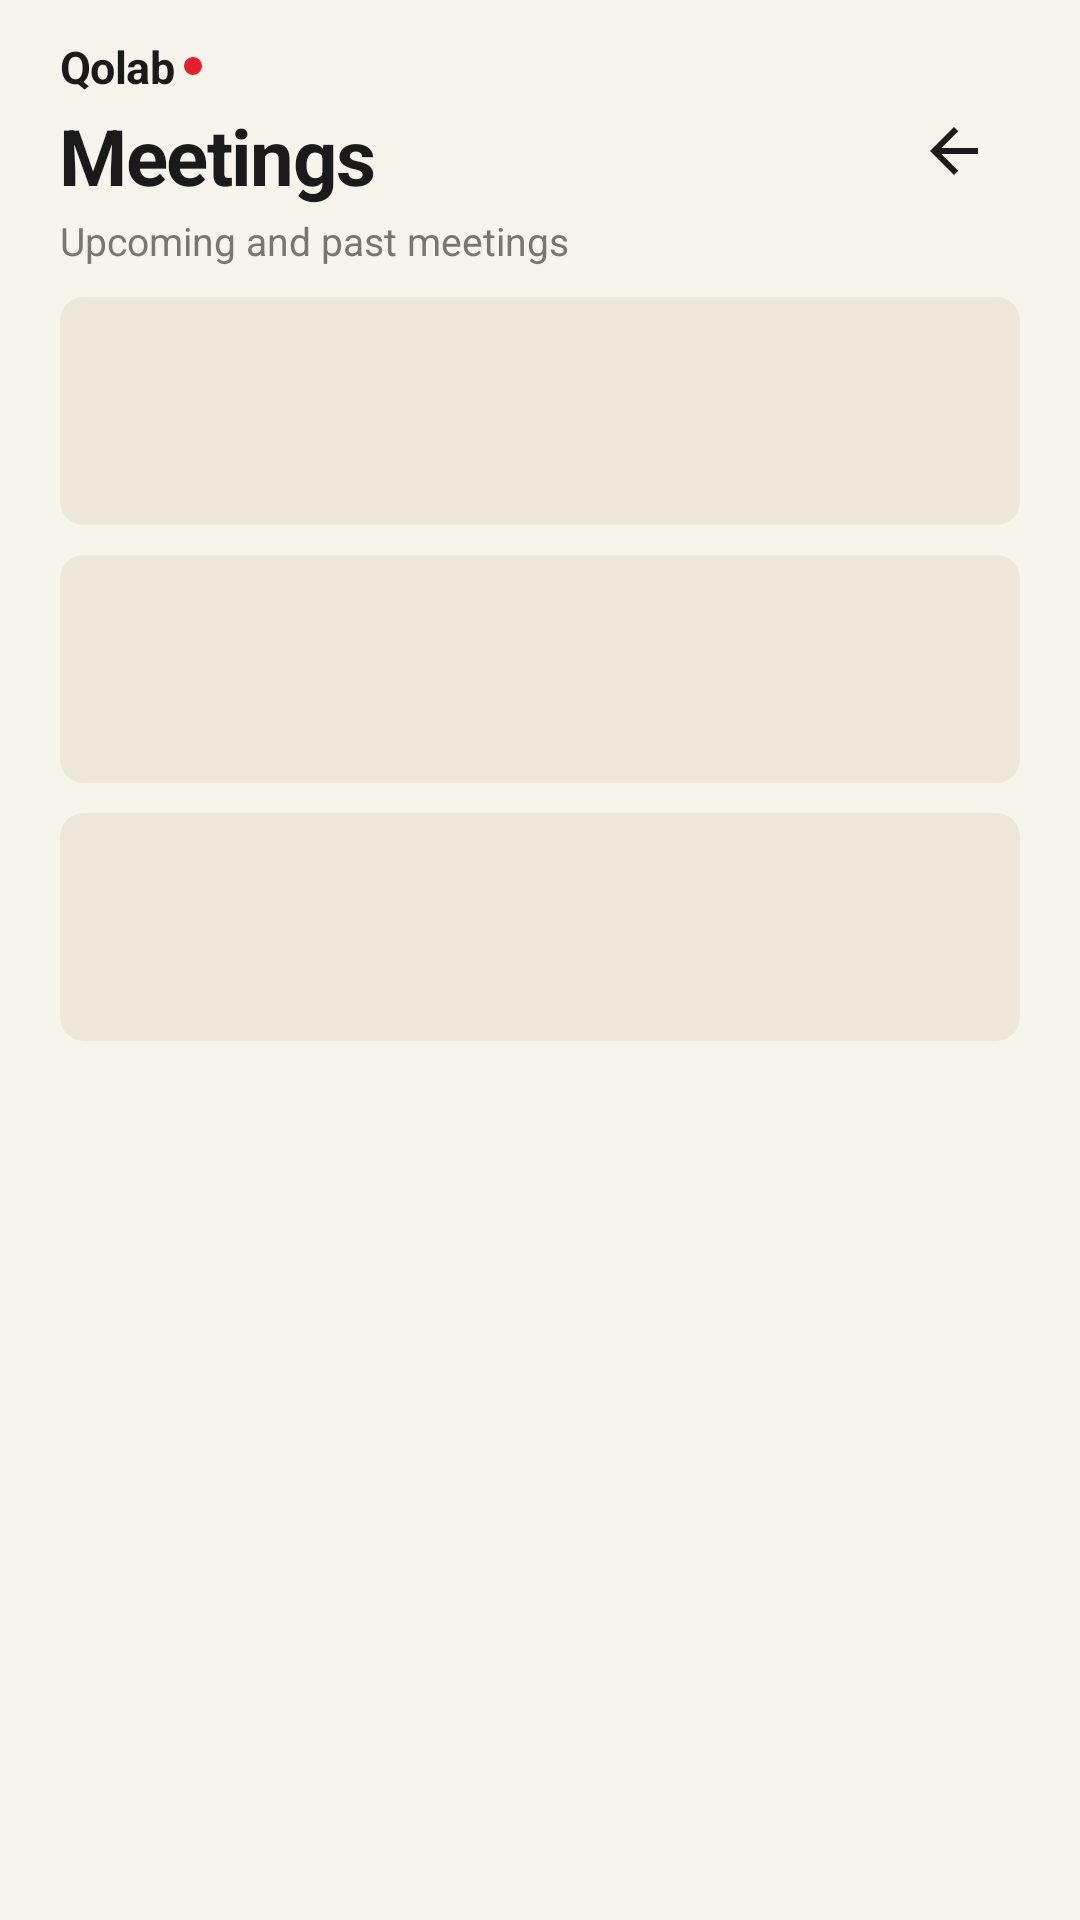

Icon bounding boxes for this 1080px x 1920px phone screenshot, format bbox=(x1, y1, x2, y2):
Back: bbox=(930, 127, 978, 175)
